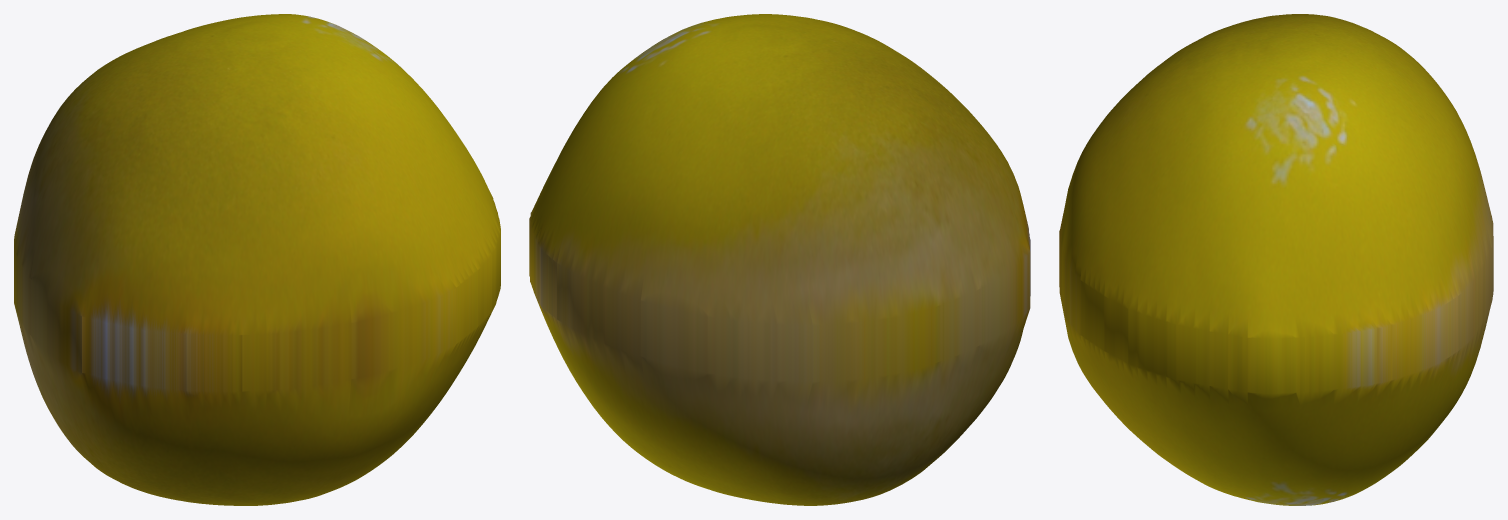
Rendered from lemon_7.obj.
The picture shows the model from 3 angles, left to right: view 1: azimuth 30°, elevation 25°; view 2: azimuth 150°, elevation 25°; view 3: azimuth 270°, elevation 25°; orthographic projection. The views are drawn at different scales.
Parts seen in each view (by area): view 1: Grid; view 2: Grid; view 3: Grid.
Boxes of the visible parts, x1,y1,x2,y2 form: Grid: (14,14,500,505); Grid: (529,14,1030,505); Grid: (1059,14,1493,505).
Size of the model in its own units: 1.65 by 1.6 by 1.45.
1 material, 1 textured.
